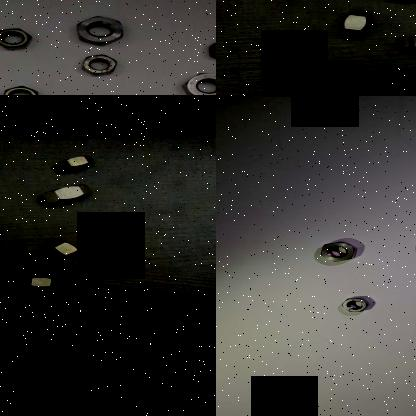NUTS: (68, 13, 132, 47), (39, 178, 97, 208), (78, 210, 142, 235), (32, 236, 88, 260), (74, 50, 124, 76), (45, 153, 103, 175), (0, 20, 39, 52), (338, 7, 371, 42), (299, 63, 341, 89), (179, 66, 216, 95), (320, 238, 360, 264), (20, 271, 66, 292), (339, 293, 377, 313), (0, 80, 50, 95), (200, 35, 216, 63), (397, 31, 416, 53)
